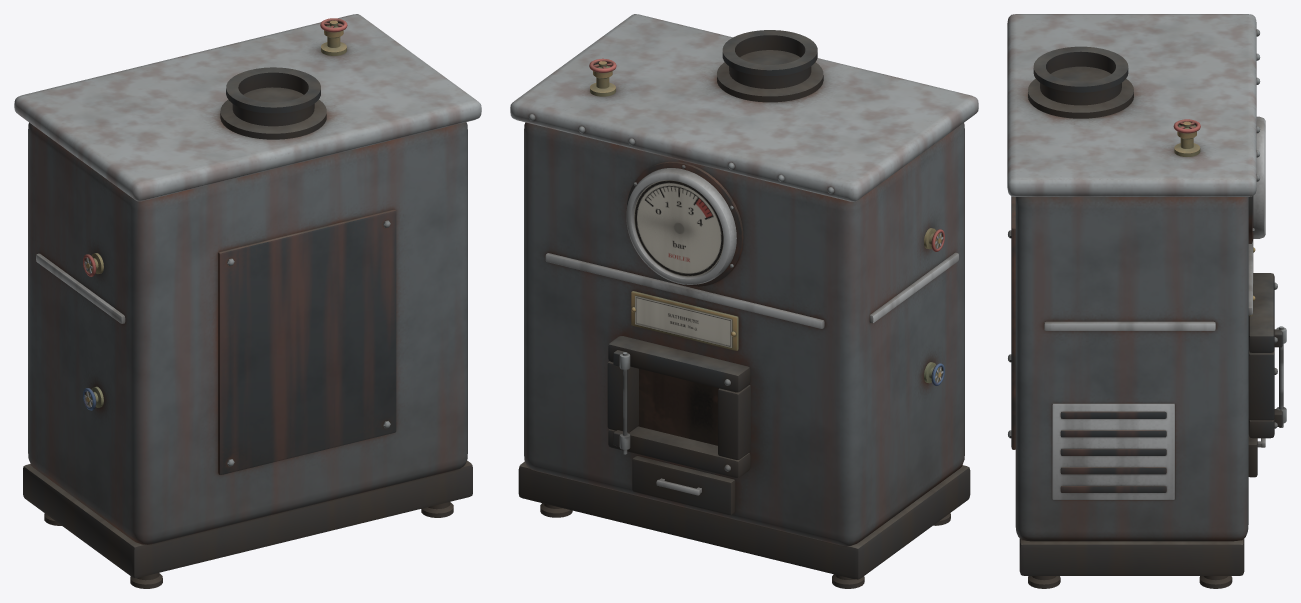
Rendered from SM_Boiler_03.fbx.
3 renders of one model, left to right at view 1: azimuth 30°, elevation 25°; view 2: azimuth 150°, elevation 25°; view 3: azimuth 270°, elevation 25°, orthographic.
Parts seen in each view (by area): view 1: SM_Boiler_03; view 2: SM_Boiler_03; view 3: SM_Boiler_03.
Boxes of the visible parts, x1,y1,x2,y2 form: SM_Boiler_03: (14,14,481,588); SM_Boiler_03: (510,14,978,588); SM_Boiler_03: (1007,14,1286,588).
Size of what is drawn, in the model's own units: 99 by 120 by 68.3.
1 material, 1 textured.
